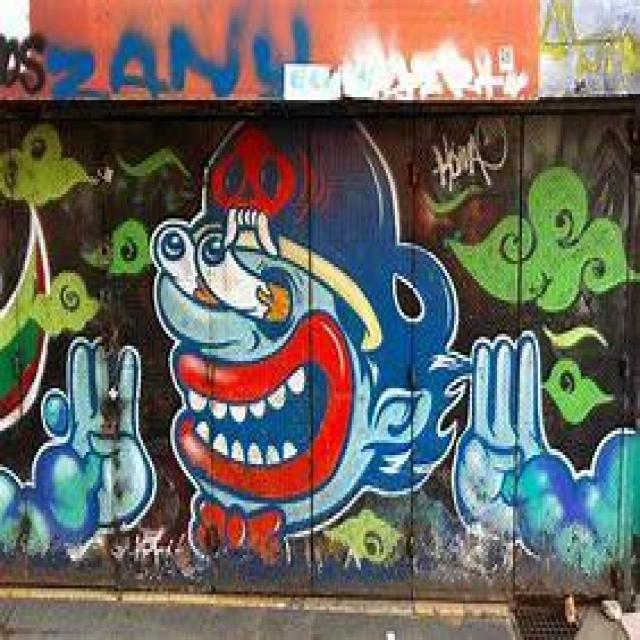nonspitting: (431, 127, 640, 585), (0, 121, 193, 563), (0, 15, 312, 93), (327, 24, 527, 100), (535, 0, 640, 79)
spitting: (154, 109, 476, 562)
